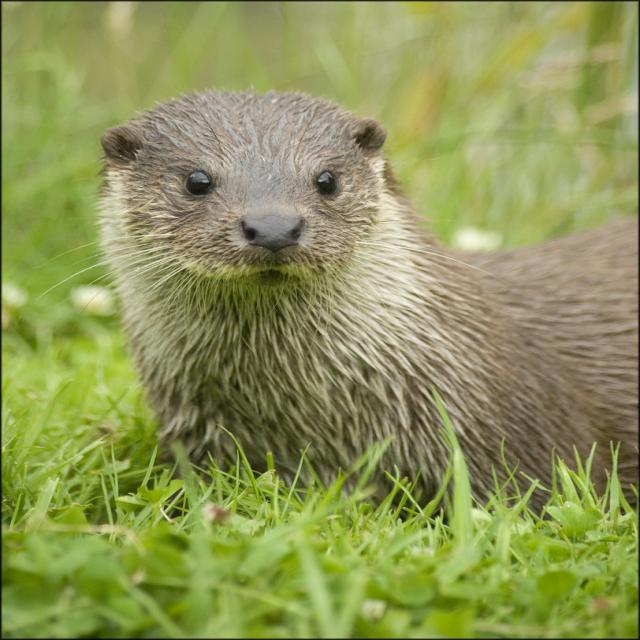otter: (99, 90, 640, 495)
